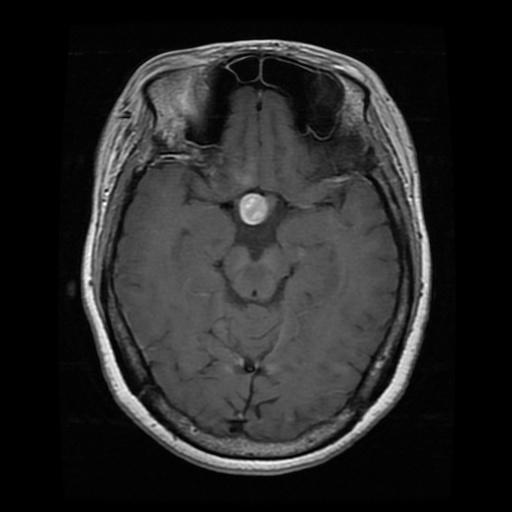pituitary: (237, 189, 271, 226)
